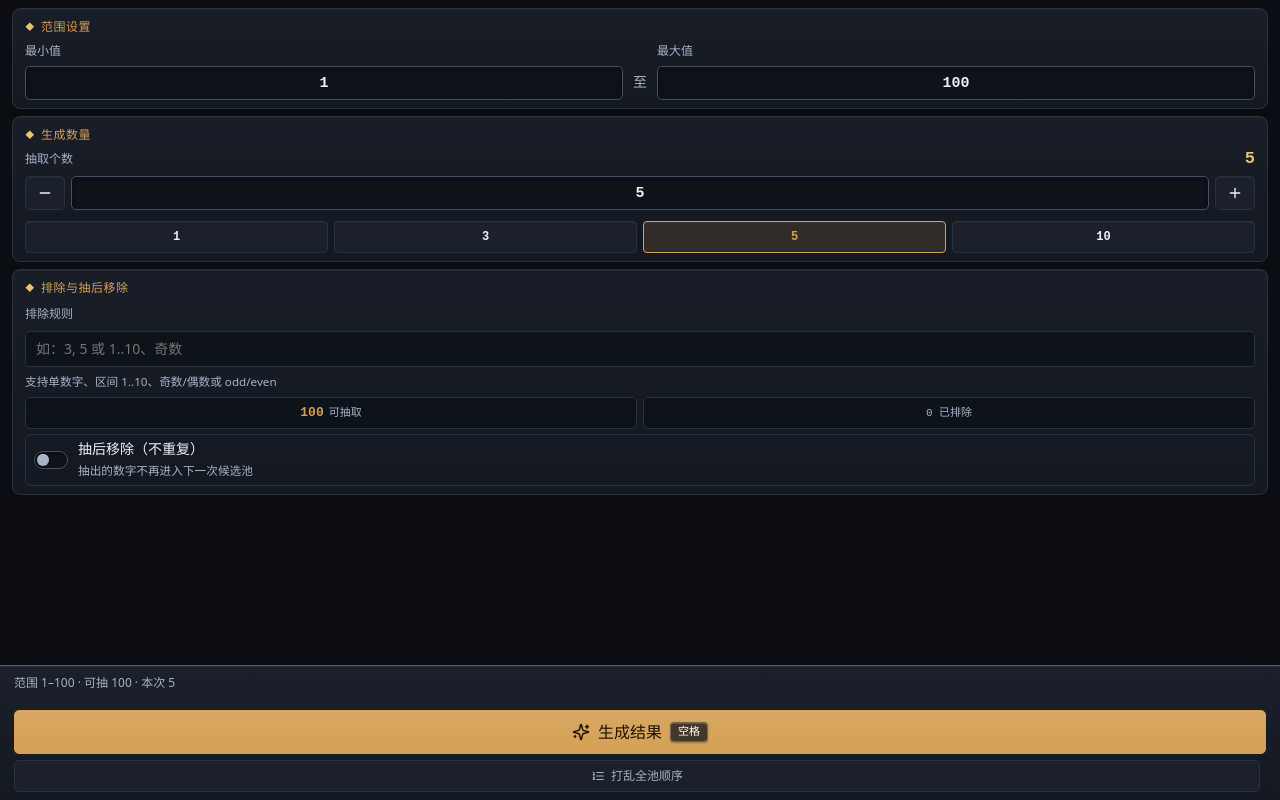
DrawInspector › keeps count input draft local and restores invalid or escaped edits
Clear the field named "生成数量": (640, 193) x1=71 y1=176 x2=1209 y2=210
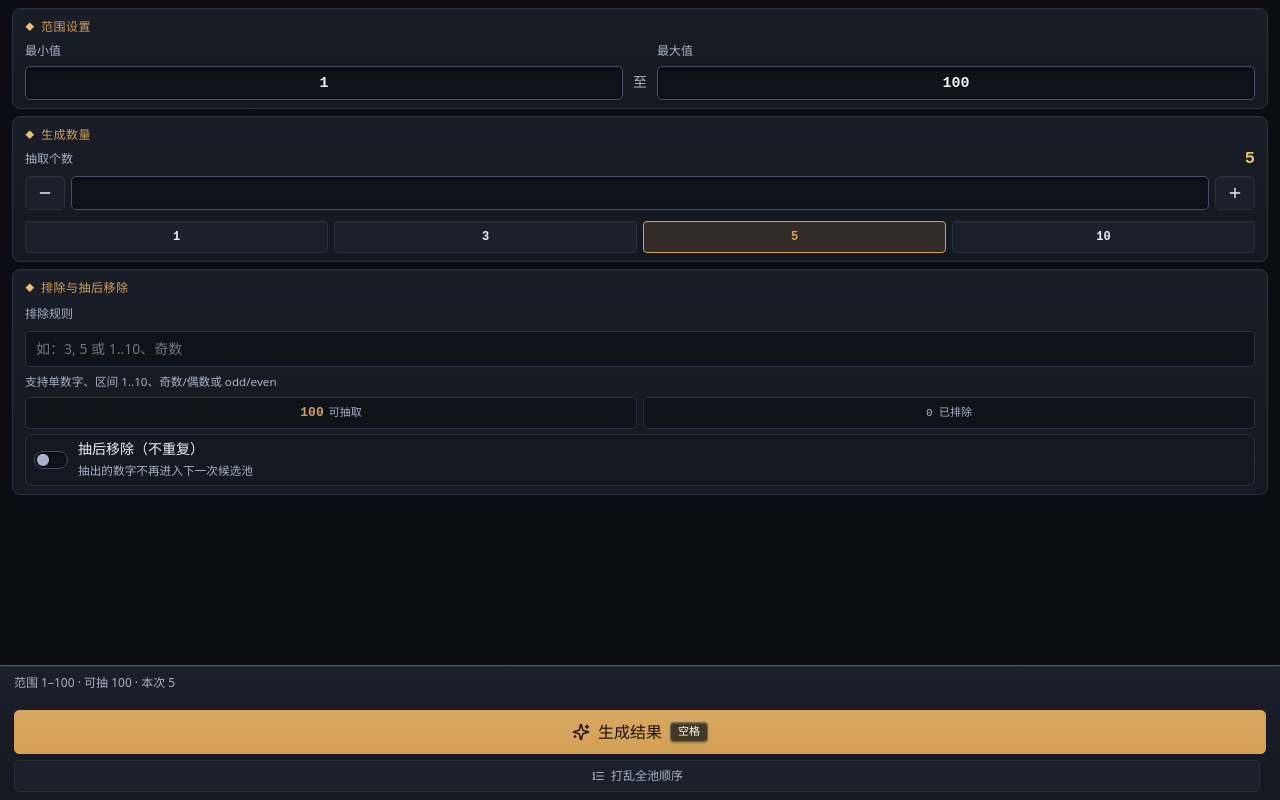
Leave the field named "生成数量", box x1=71 y1=176 x2=1209 y2=210
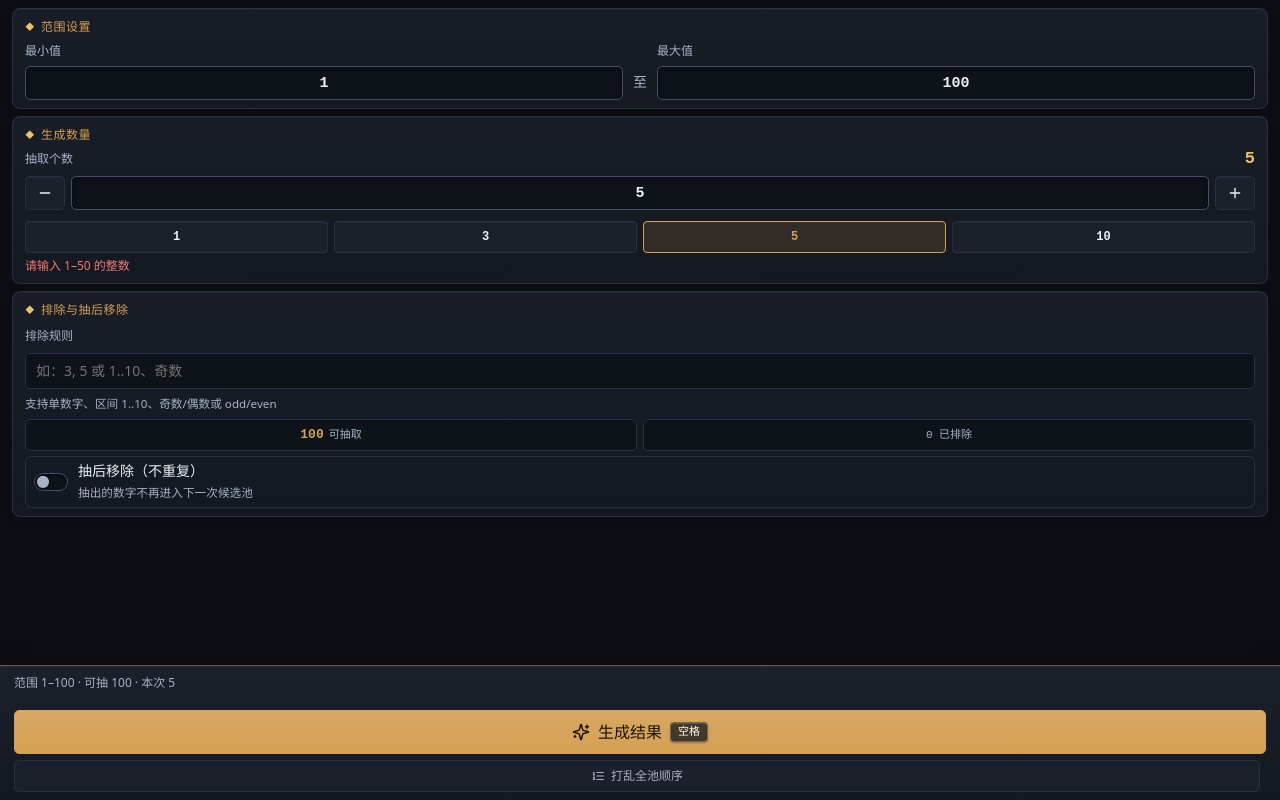
Check: the field named "生成数量" holds "5"
Check: the text "请输入 1–50 的整数" is shown, box x1=25 y1=257 x2=130 y2=274
Replace the text in the field named "生成数量" with "999": (640, 193) x1=71 y1=176 x2=1209 y2=210
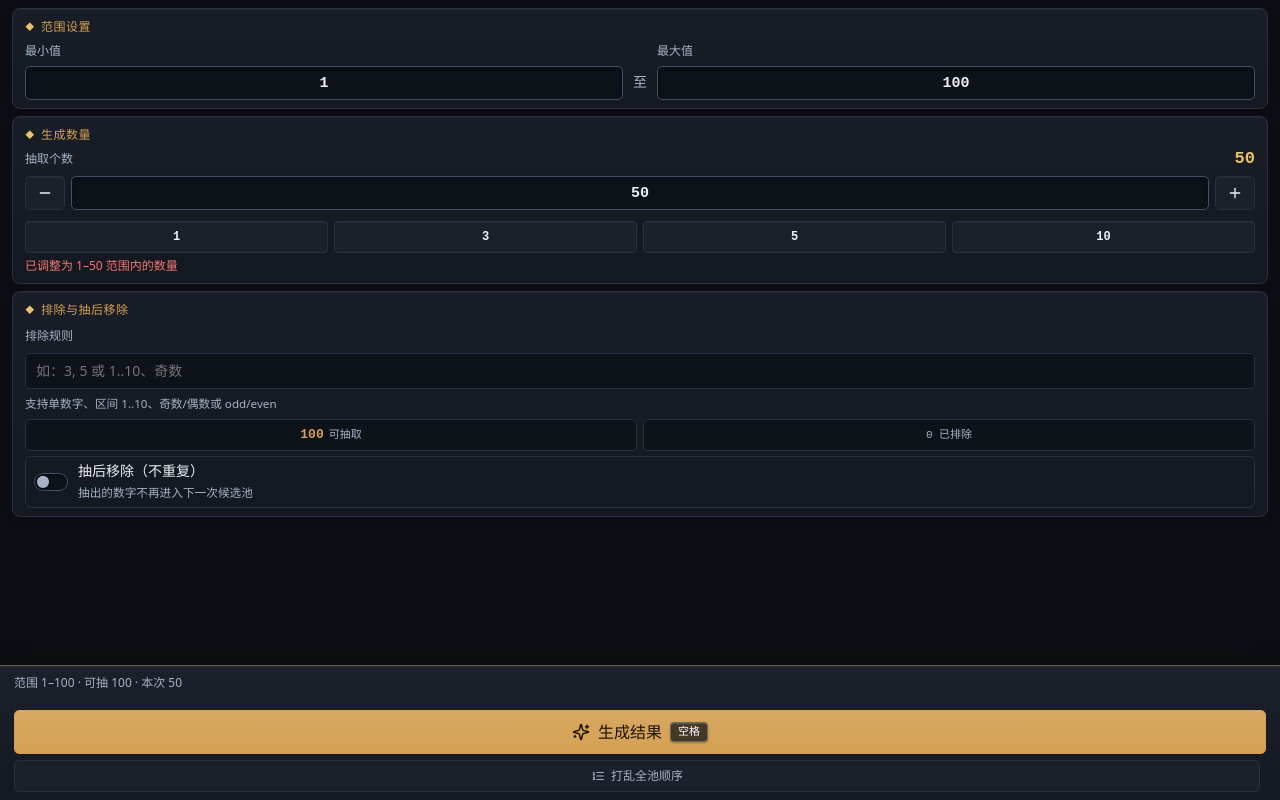
Replace the text in the field named "生成数量" with "12": (640, 193) x1=71 y1=176 x2=1209 y2=210
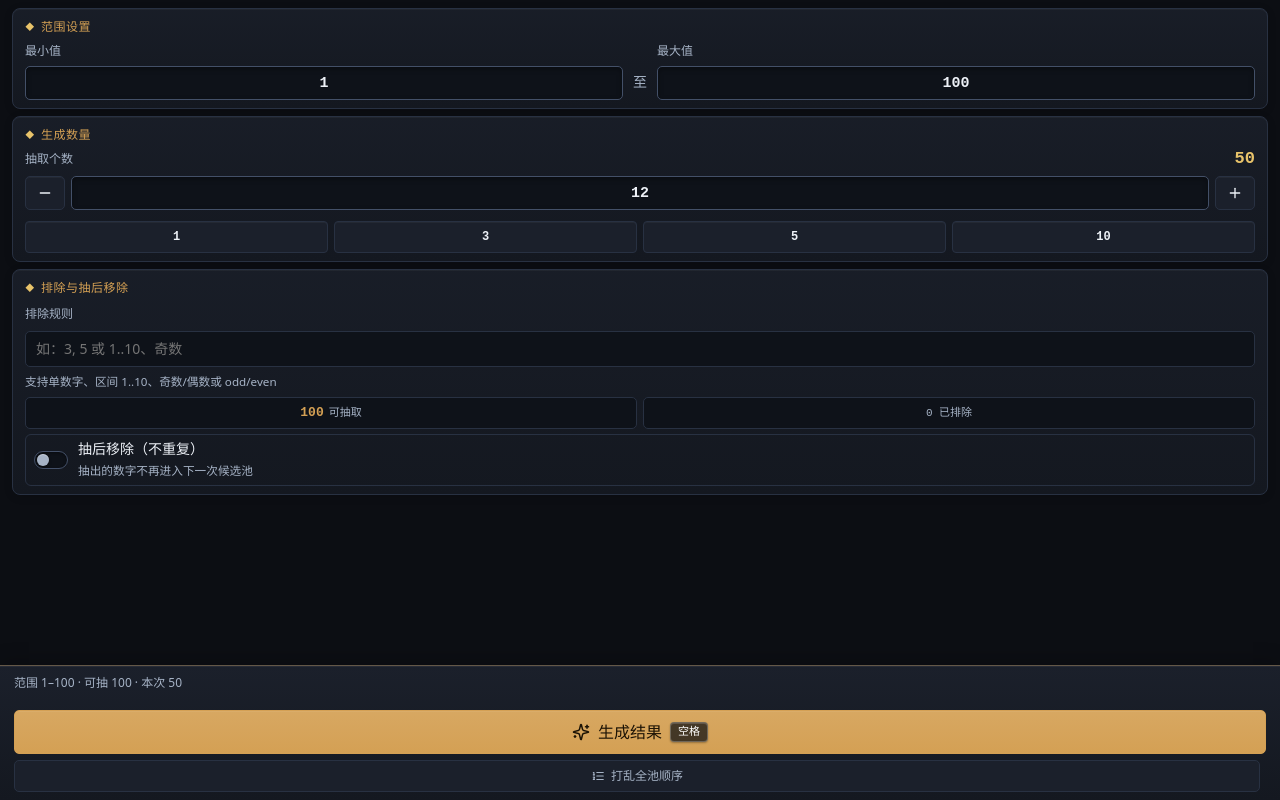
Press Escape in the field named "生成数量", box x1=71 y1=176 x2=1209 y2=210
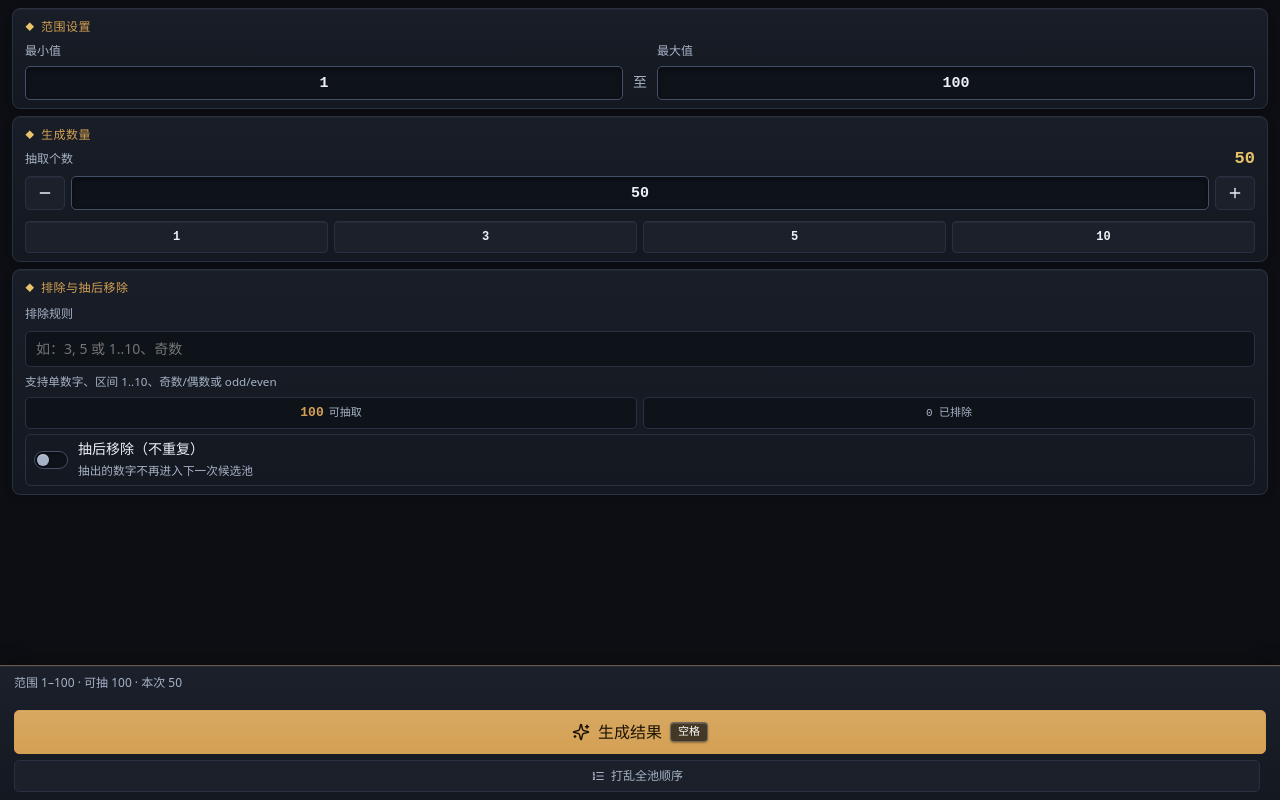
Check: the field named "生成数量" holds "50", box x1=71 y1=176 x2=1209 y2=210
